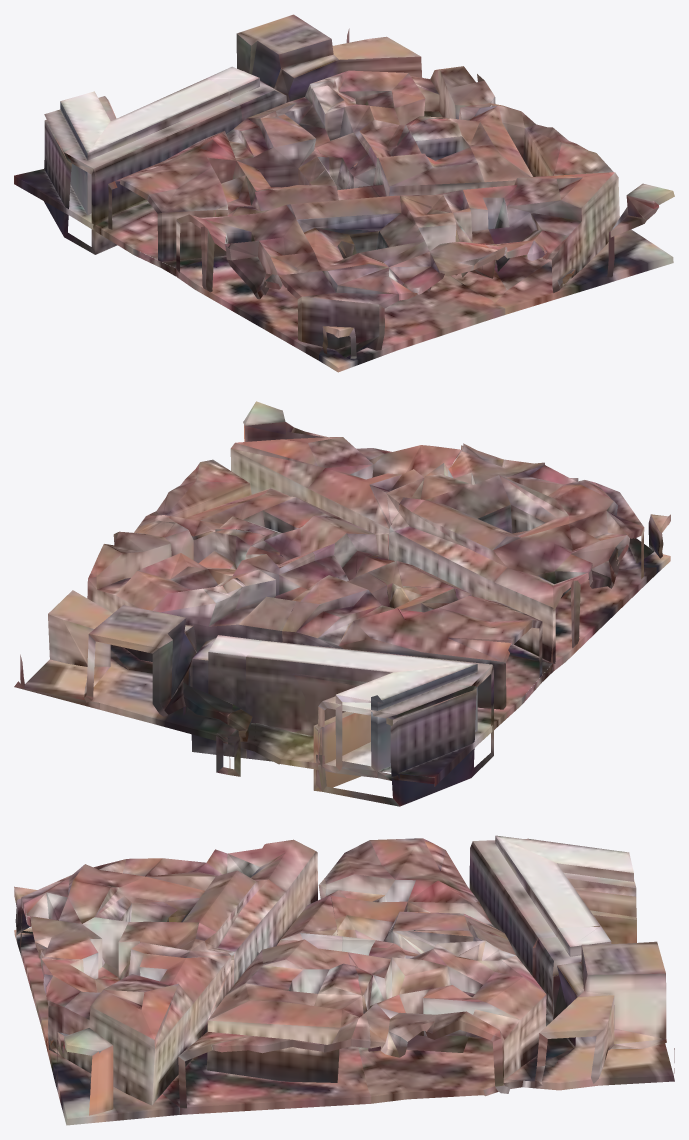
The picture shows the model from 3 angles, top to bottom: view 1: azimuth 30°, elevation 25°; view 2: azimuth 150°, elevation 25°; view 3: azimuth 270°, elevation 25°; orthographic projection. The views are drawn at different scales.
Visible parts, largest first — view 1: Mesh_0; view 2: Mesh_0; view 3: Mesh_0.
Boxes of the visible parts, x1,y1,x2,y2 form: Mesh_0: (14,14,674,372); Mesh_0: (14,401,670,806); Mesh_0: (14,835,674,1125).
Bounding box in the file's own units: 134 × 34.17 × 165.
1 material, 1 textured.
